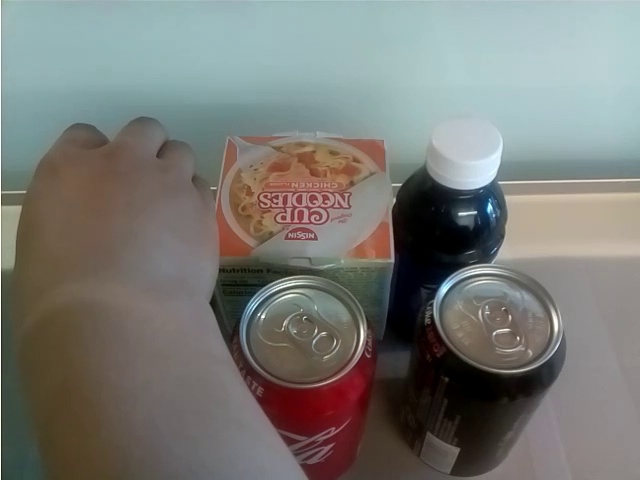cocacola: (239, 275, 379, 473)
cocacola-zero: (396, 270, 568, 474)
hand: (13, 115, 221, 300)
juice: (394, 121, 510, 264)
noodles: (219, 135, 392, 264)
